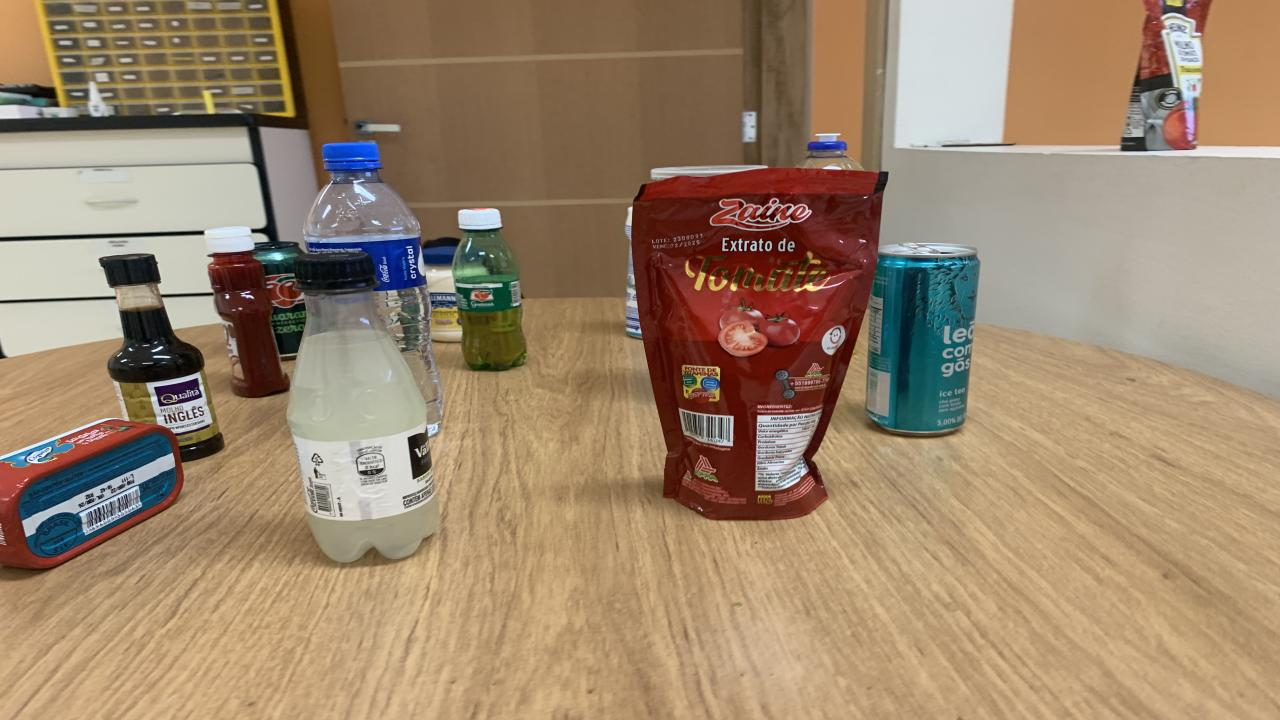Cleaner-Cleanup_Items: (625, 246, 642, 338), (625, 206, 632, 238)
English_Sauce-Pantry_Items: (100, 253, 222, 459)
Guarana-Drinks: (452, 208, 528, 371)
Guarana_Can-Drinks: (255, 242, 305, 358)
Ketchup-Pantry_Items: (205, 227, 290, 398)
Mayonnaise-Pantry_Items: (422, 246, 462, 343)
Soda-Drinks: (288, 251, 438, 562)
Tea-Drinks: (865, 242, 980, 435)
Tomato_Sauce-Pantry_Items: (632, 169, 888, 519), (1120, 0, 1210, 150)
Tuna_Can-Pantry_Items: (0, 418, 182, 568)
Water_Bottle-Drinks: (305, 142, 442, 435)
